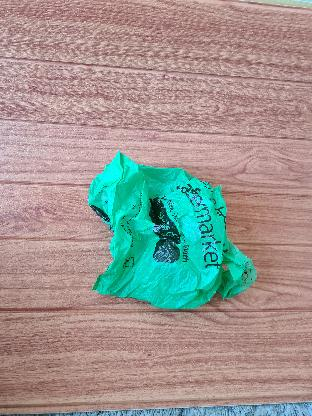Plastic Bag: (85, 146, 259, 310)
